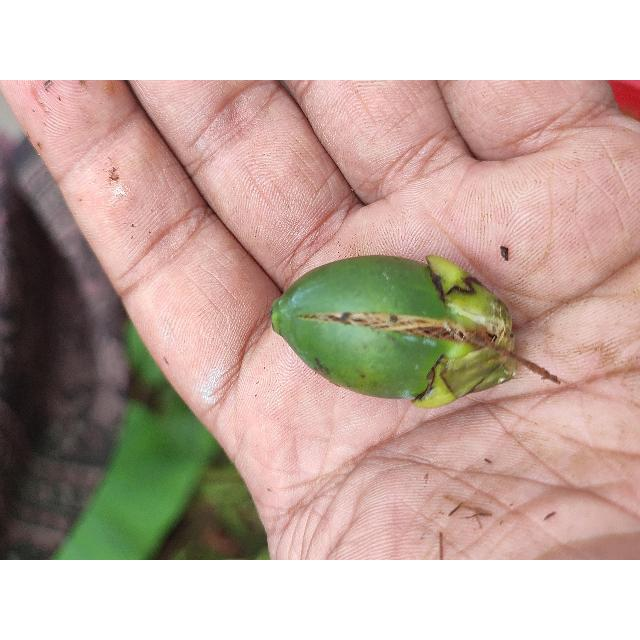damaged: (265, 253, 526, 410)
